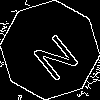N: (25, 25, 81, 83)
